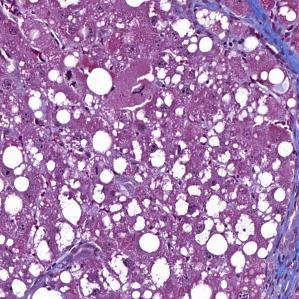fibrosis: (227, 1, 299, 79), (267, 198, 299, 299)
